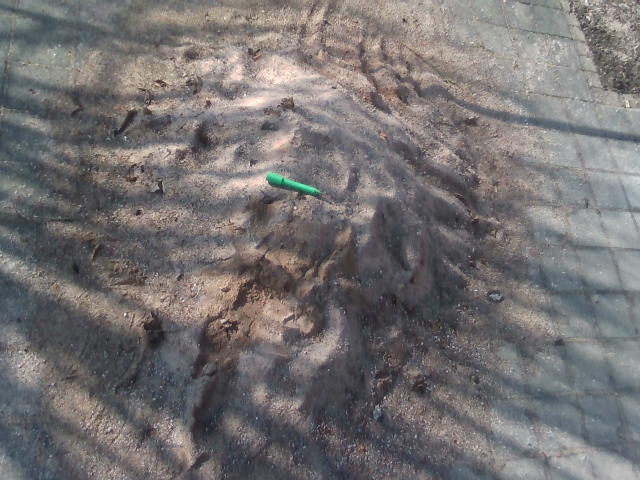Probe: (262, 168, 328, 201)
